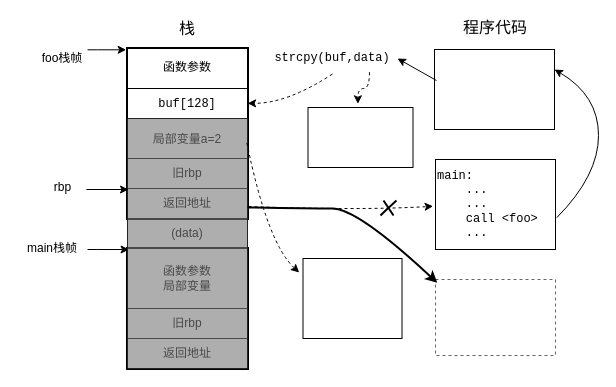
Some shapes in this 616 by 387 pixel diagram are drawn without their labels. The box of each missing label's shape, as (x1, y1, x2, y2) in pixels:
data[512] ... ... ... ...: (307, 106, 413, 168)
foo: call strcpy ... ret: (434, 48, 554, 130)
if( a==2 ) code A; else code B;: (302, 258, 402, 338)
恶意代码 ... ...: (434, 278, 556, 356)
